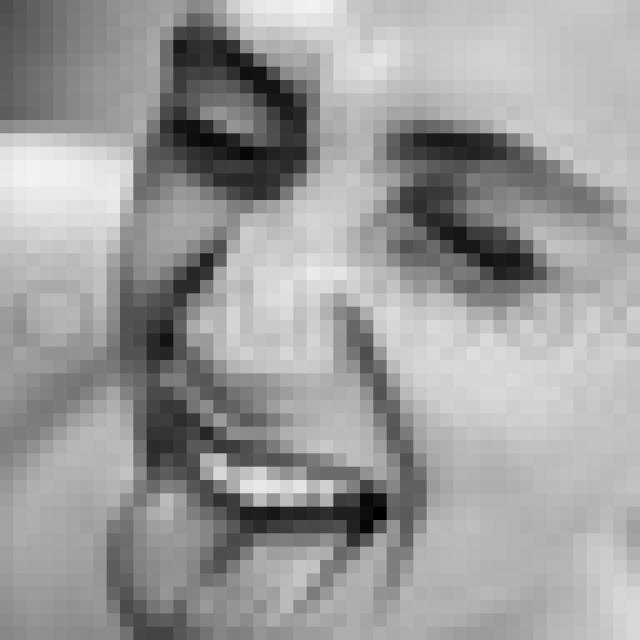disgust: (99, 22, 587, 640)
